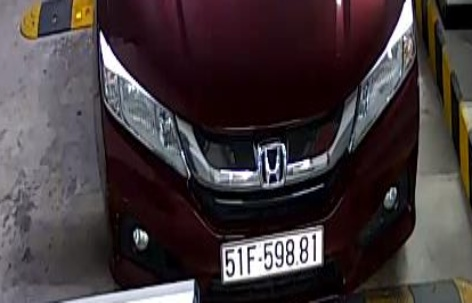plate: (218, 221, 331, 283)
